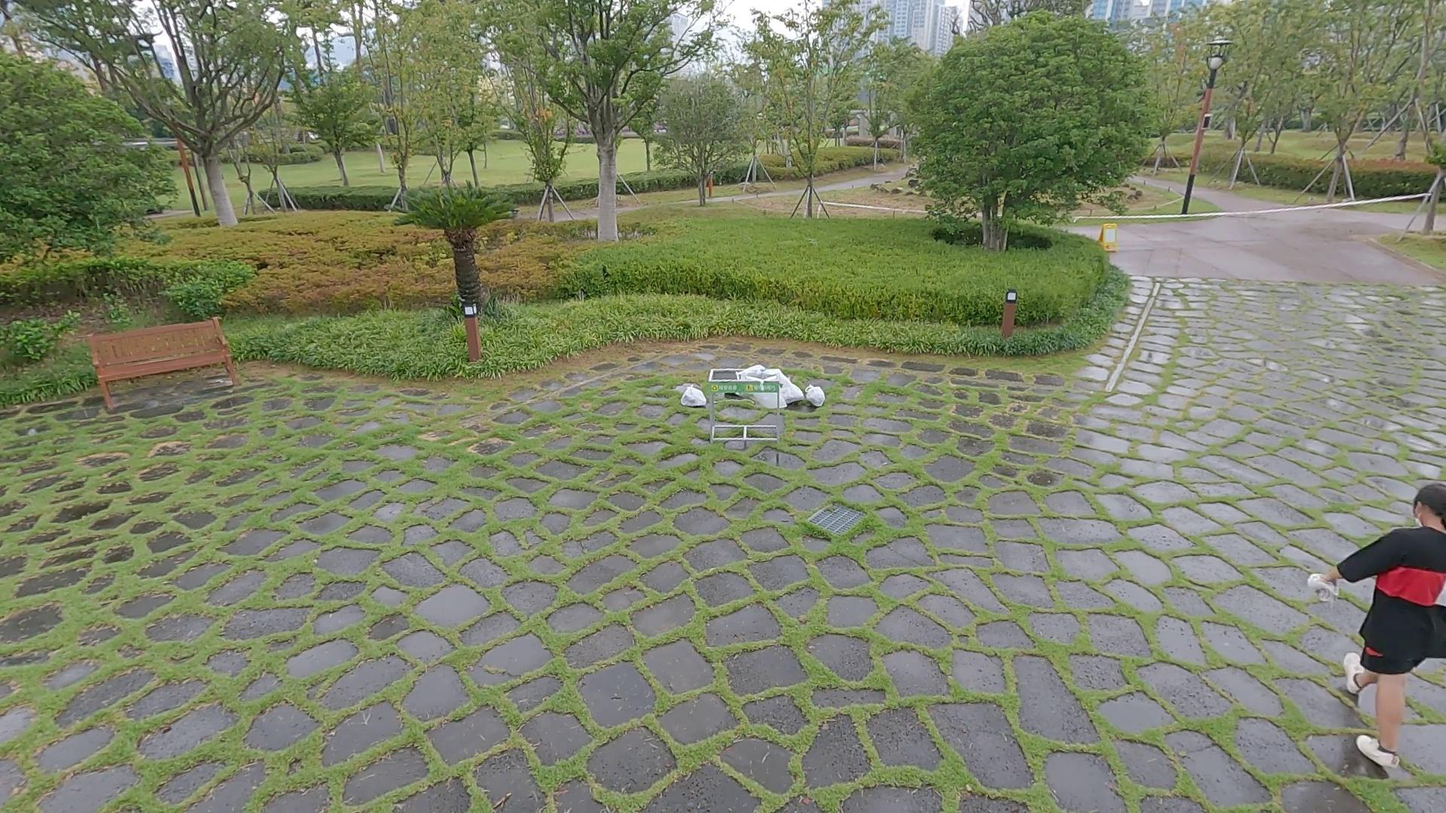trash: (1315, 484, 1446, 769), (1306, 572, 1341, 607), (778, 376, 802, 405), (682, 384, 709, 408), (803, 384, 827, 408)
